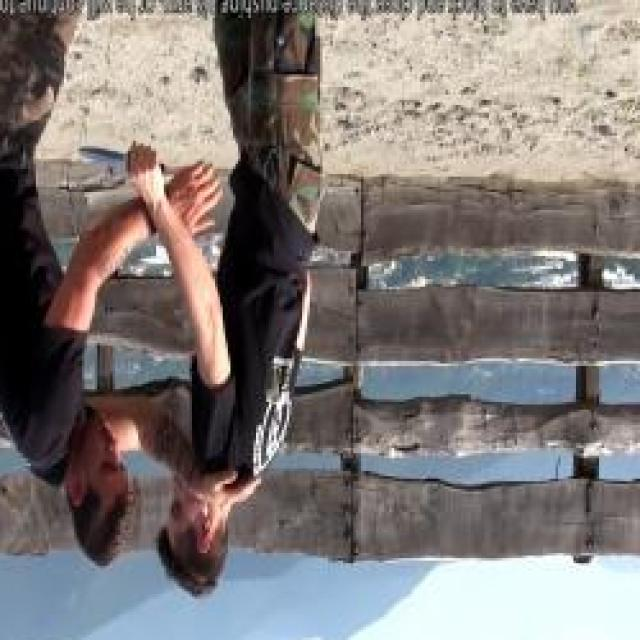knife: (72, 133, 166, 187)
